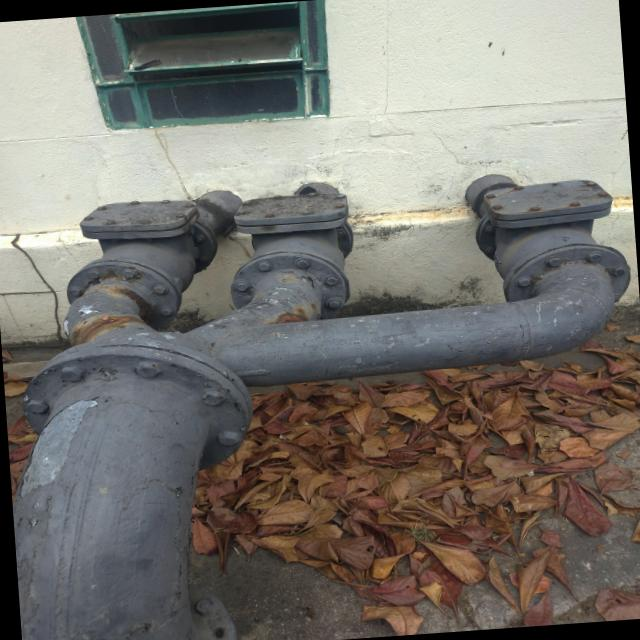gas: (16, 177, 621, 640)
